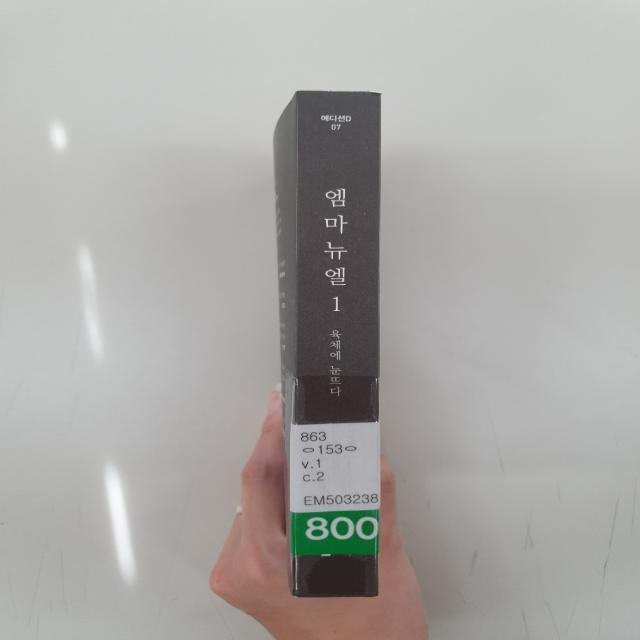Wornout: (335, 87, 385, 101), (290, 585, 309, 600)
